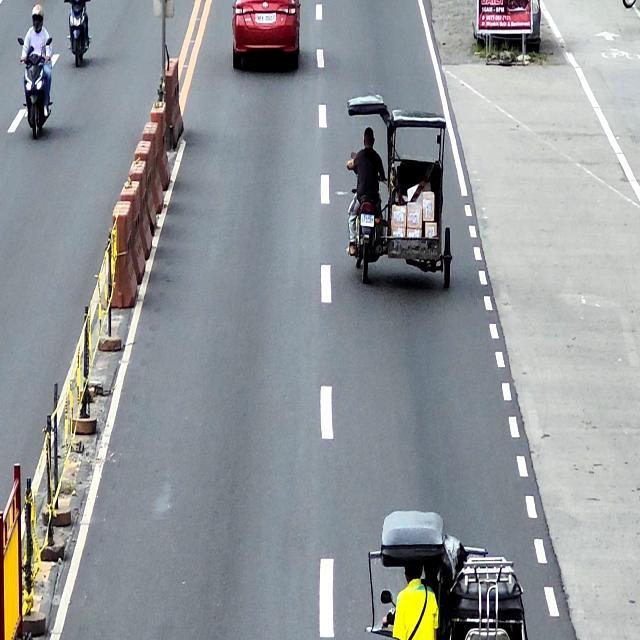Car: (231, 0, 300, 68)
License-Plate: (255, 13, 276, 24), (360, 214, 375, 228)
Motorcycle: (18, 35, 53, 142), (68, 0, 90, 67)
Tricycle: (349, 95, 453, 289), (374, 510, 526, 640)
